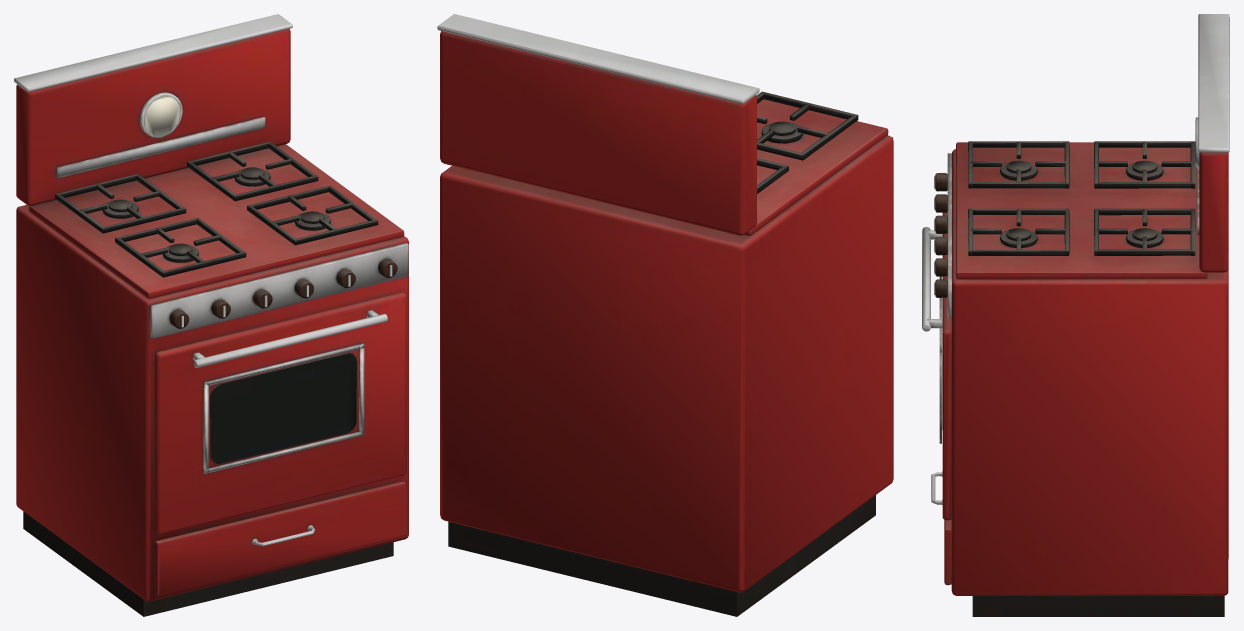
Rendered from stove_red-low.glb.
3 renders of one model, left to right at view 1: azimuth 30°, elevation 25°; view 2: azimuth 150°, elevation 25°; view 3: azimuth 270°, elevation 25°, orthographic. The views are drawn at different scales.
Visible parts, largest first — view 1: stove_red-low; view 2: stove_red-low; view 3: stove_red-low.
Boxes of the visible parts, box(x1,y1,x2,y2) form: stove_red-low: box(14, 14, 408, 616); stove_red-low: box(437, 14, 893, 616); stove_red-low: box(922, 14, 1229, 616).
Size of the model in its own units: 0.7641 by 1.24 by 0.733.
Materials: 1 (1 with a texture image).
